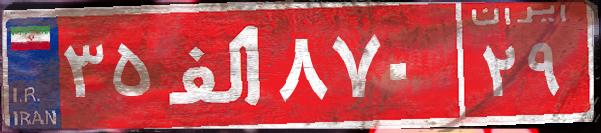0: (385, 28, 445, 110)
2: (475, 38, 525, 113)
3: (57, 26, 110, 107)
5: (110, 28, 158, 105)
7: (330, 28, 385, 110)
8: (273, 28, 330, 110)
9: (525, 38, 570, 115)
الف: (158, 15, 273, 115)
